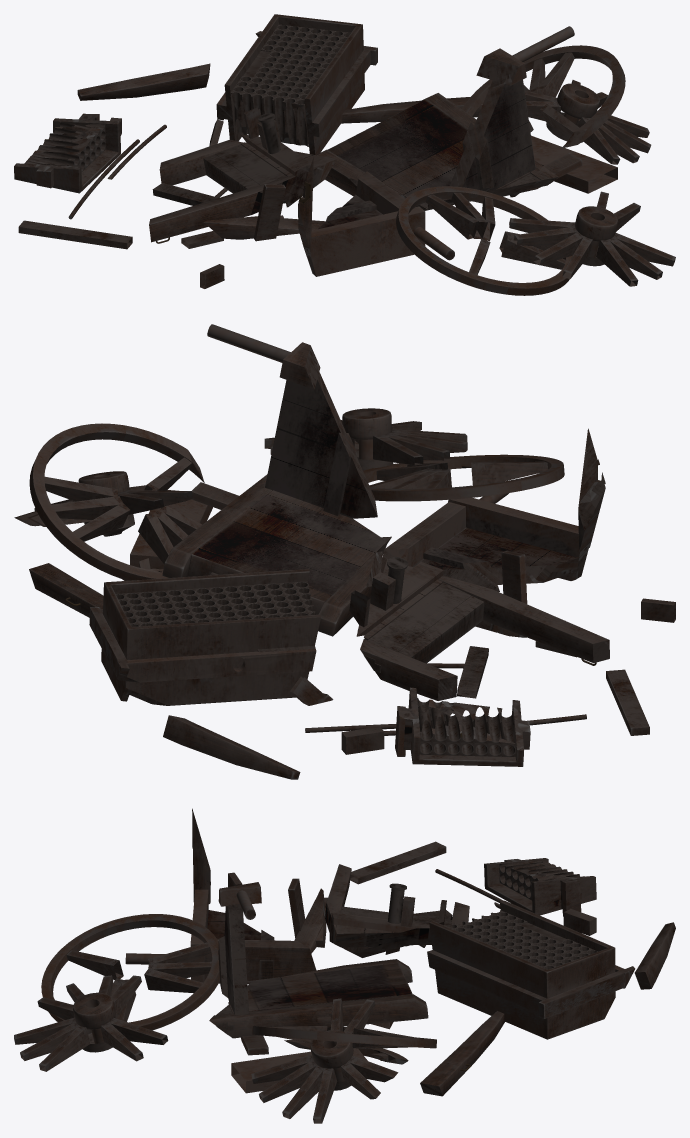
Rendered from SM_Hwacha_Destroyed.FBX.
3 views of the same model, one above another, from view 1: azimuth 30°, elevation 25°; view 2: azimuth 150°, elevation 25°; view 3: azimuth 270°, elevation 25° (orthographic). The views are drawn at different scales.
Parts seen in each view (by area): view 1: SM_Hwacha_Destroyed; view 2: SM_Hwacha_Destroyed; view 3: SM_Hwacha_Destroyed.
Part boxes in pixels (<box>): SM_Hwacha_Destroyed: <box>14,14,675,295</box>; SM_Hwacha_Destroyed: <box>14,324,675,779</box>; SM_Hwacha_Destroyed: <box>14,808,675,1123</box>.
Size of the model in its own units: 312 by 313 by 86.3.
